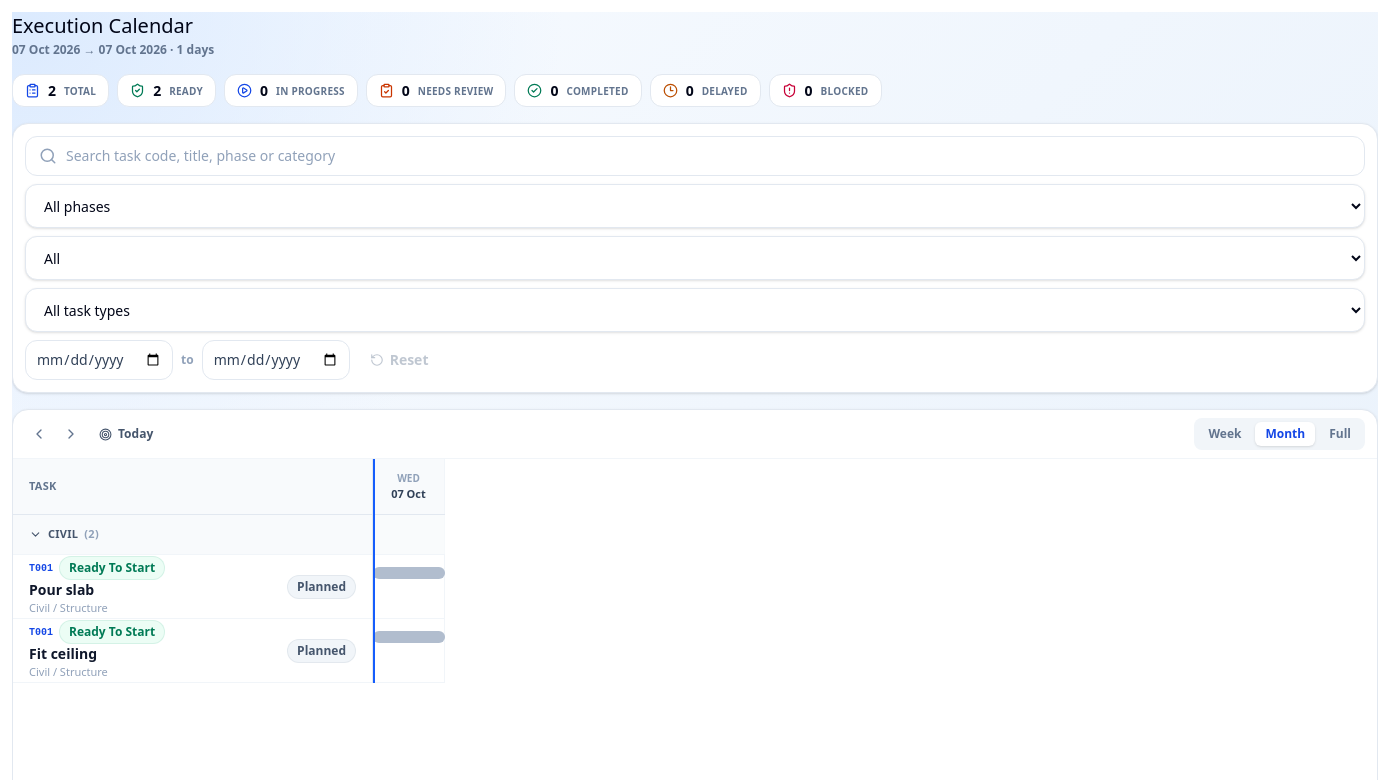
Test case: ExecutionCalendarView › resets search, phase, status and date-range filters on Reset
The image size is (1378, 780).
Expected: the text "Pour slab" is shown, [29,580,94,599]
Type "ceiling" into the field with placeholder "Search task code, title, phase or category".
click(695, 156); type("ceiling")  # box [25,136,1365,176]
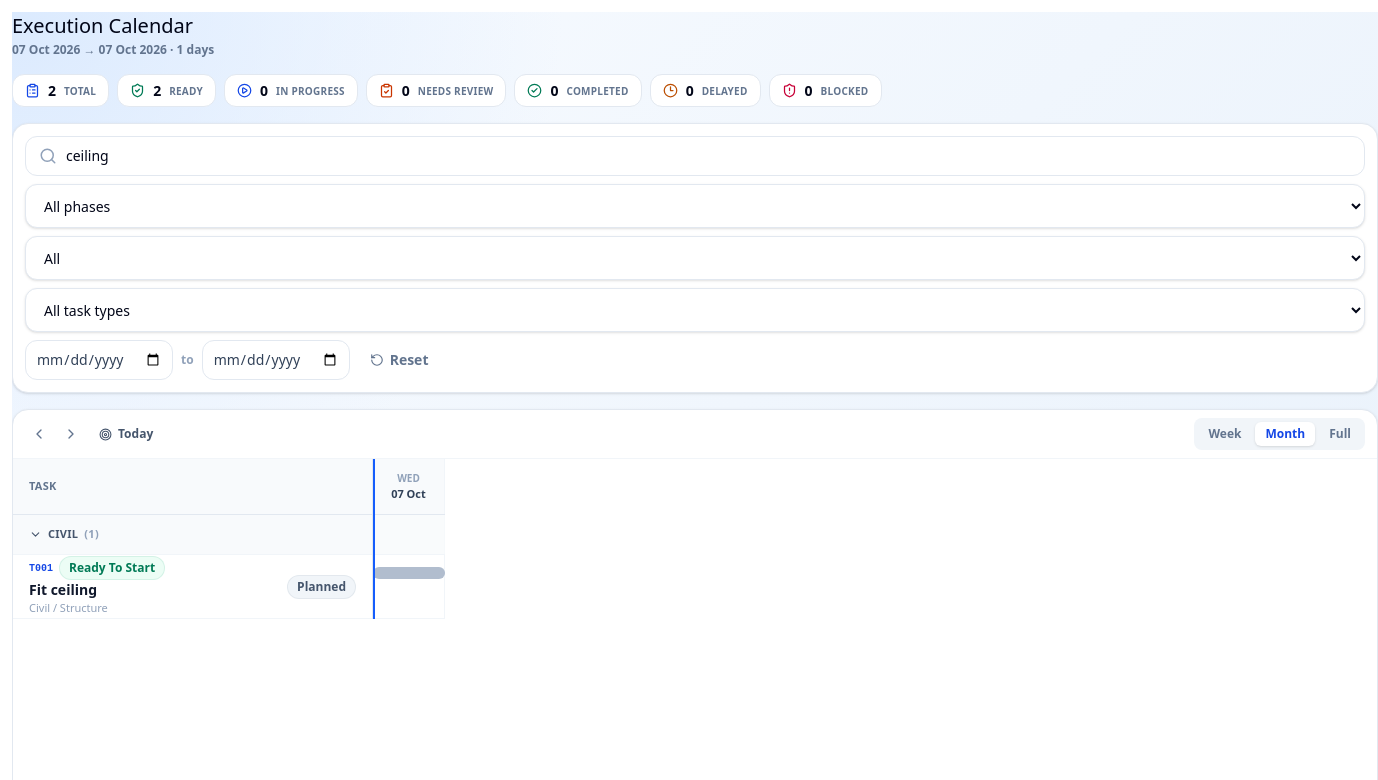
Expected: the button "Pour slab" is gone
Type "2026-01-01" into the date field named "from date".
click(99, 360); type("2026-01-01")  # box [25,340,173,380]
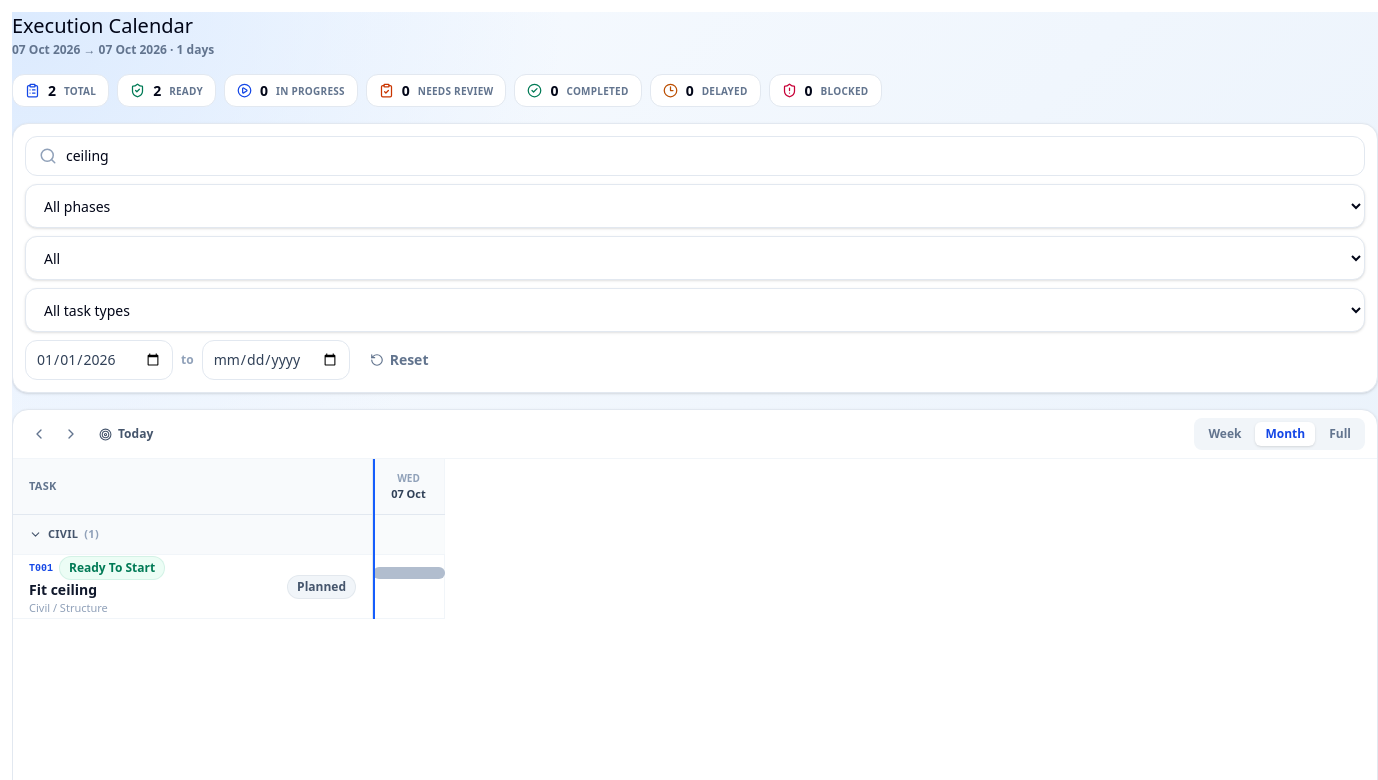
Click the button "Reset".
click(399, 360)  # box [358,340,440,380]
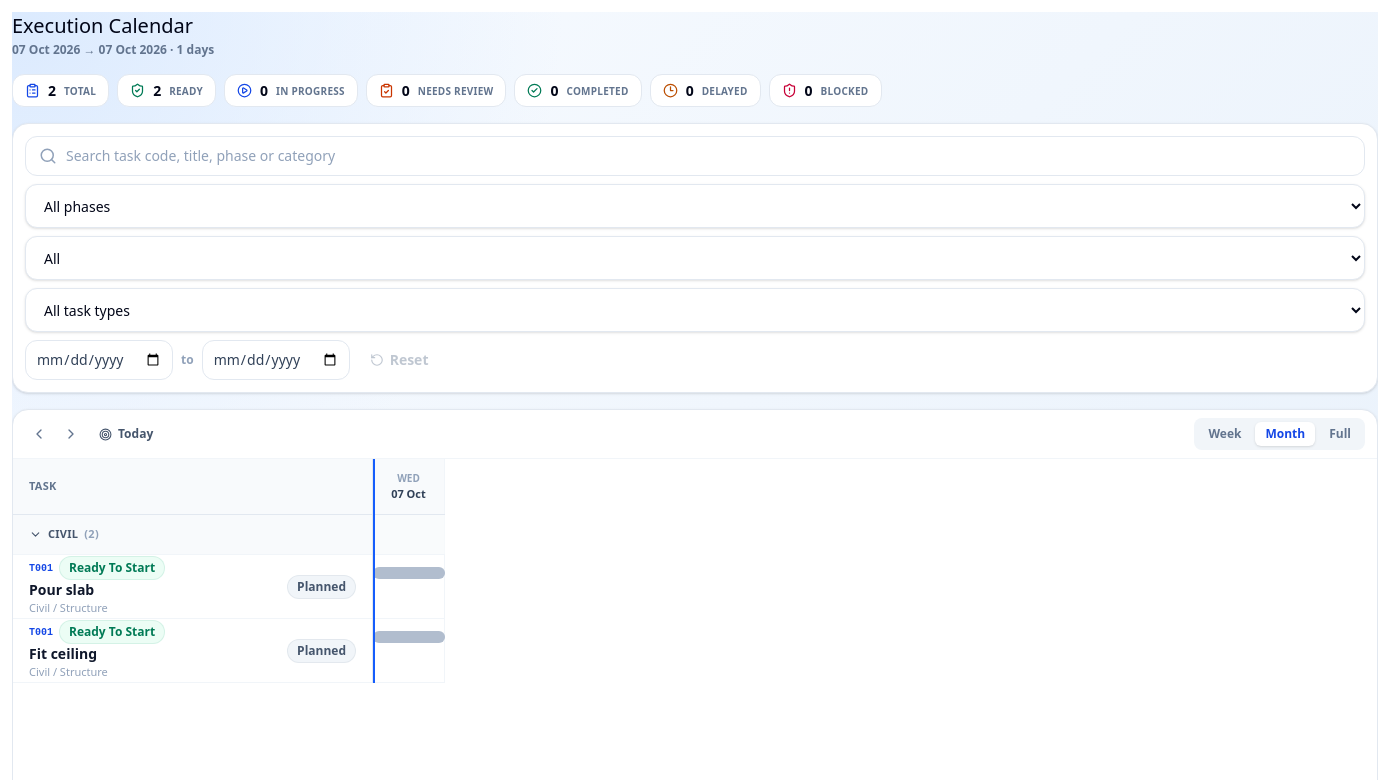
Expected: the text "Pour slab" is shown, [29,580,94,599]
Expected: the field with placeholder "Search task code, title, phase or category" is empty, [25,136,1365,176]
Expected: the date field named "from date" is empty, [25,340,173,380]
